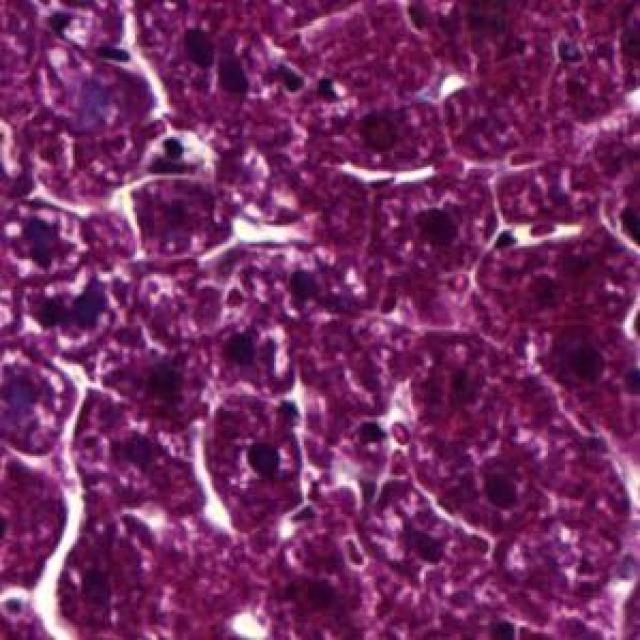inflammation: (192, 379, 314, 541), (126, 124, 218, 188)
